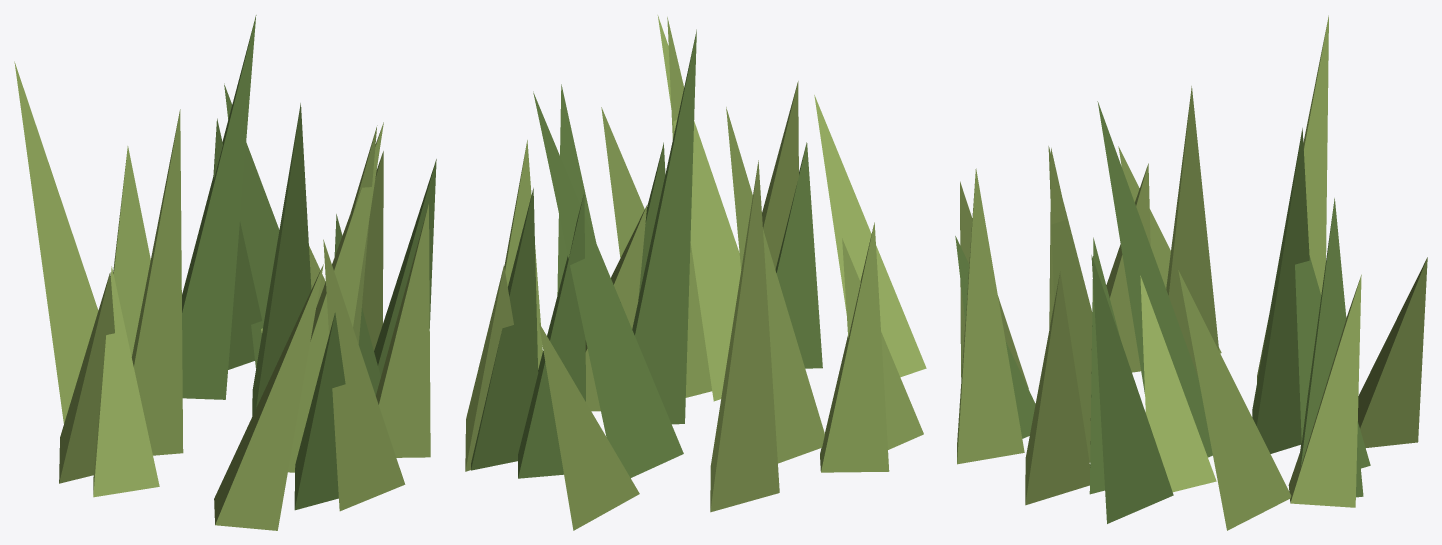
Rendered from cover_grass_a.glb.
3 views of the same model, side by side, from view 1: azimuth 30°, elevation 25°; view 2: azimuth 150°, elevation 25°; view 3: azimuth 270°, elevation 25° (orthographic). The views are drawn at different scales.
Parts seen in each view (by area): view 1: cover_grass_a; view 2: cover_grass_a; view 3: cover_grass_a.
Boxes of the visible parts, x1,y1,x2,y2 form: cover_grass_a: (14, 15, 436, 530); cover_grass_a: (465, 15, 926, 530); cover_grass_a: (955, 15, 1427, 530).
Size of the model in its own units: 0.6538 by 0.6259 by 0.7336.
